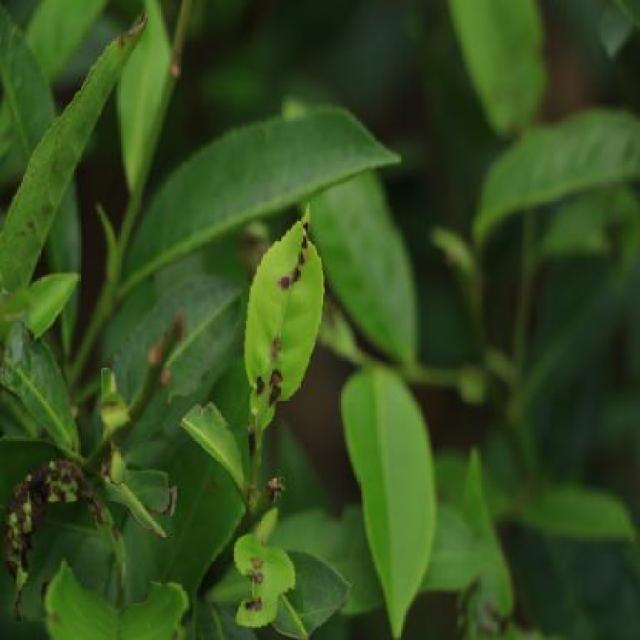Tea Mosquito bug infested leaf: (232, 207, 334, 456), (0, 449, 114, 571), (225, 545, 300, 629)
